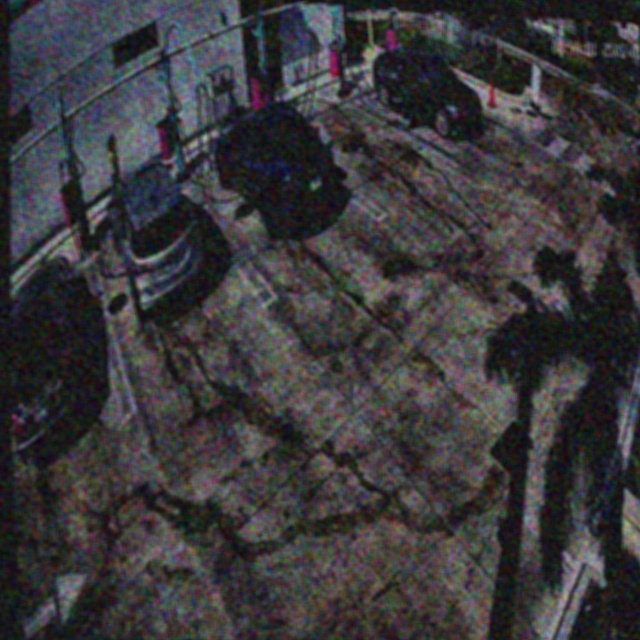Car: (216, 100, 337, 248), (111, 161, 197, 327)
